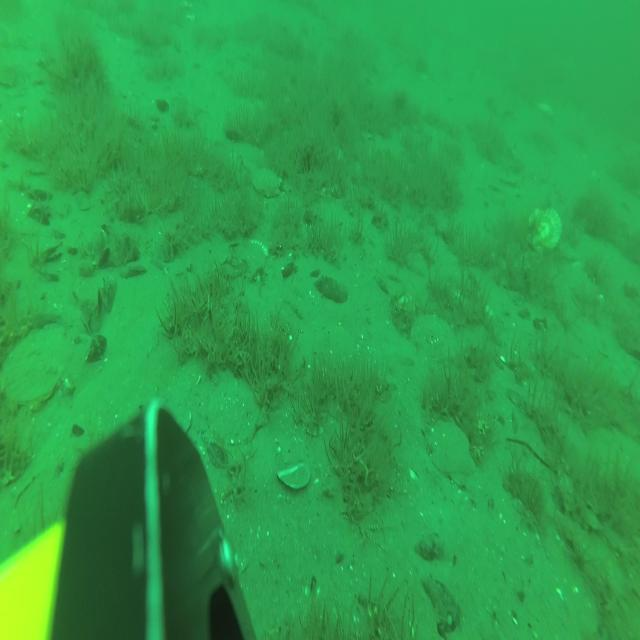scallop: (423, 420, 478, 486), (208, 380, 265, 442), (525, 206, 561, 253), (253, 166, 281, 198), (539, 98, 554, 114)
